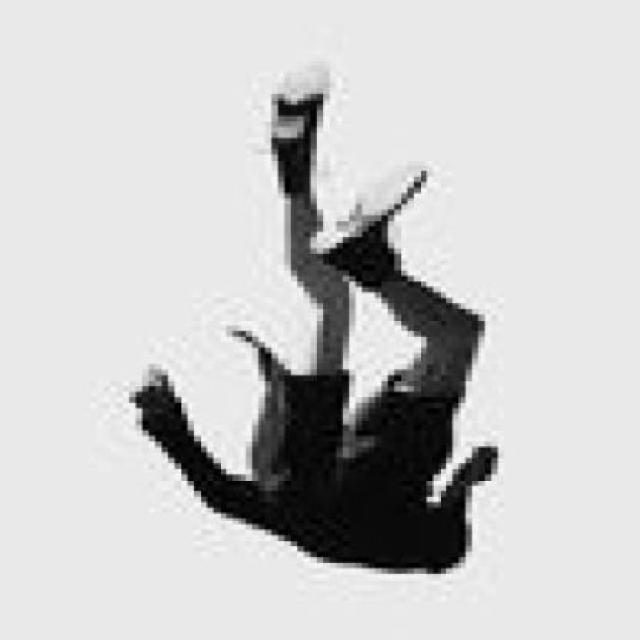fall: (105, 53, 502, 581)
